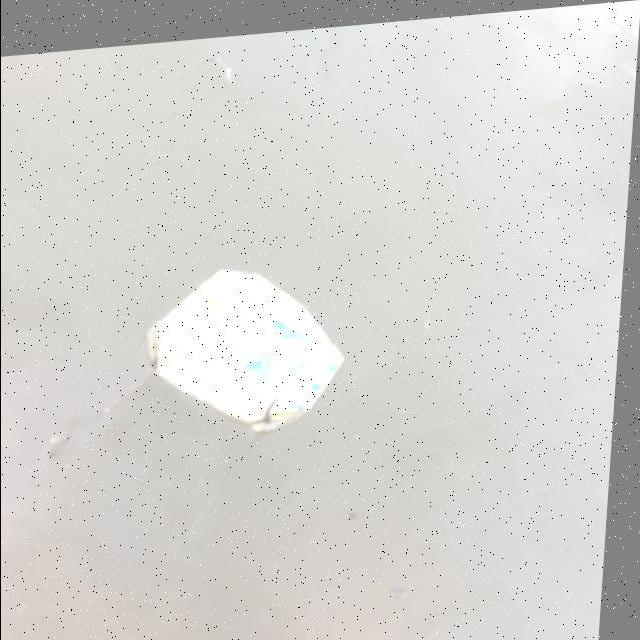Waste: (138, 256, 349, 440)
